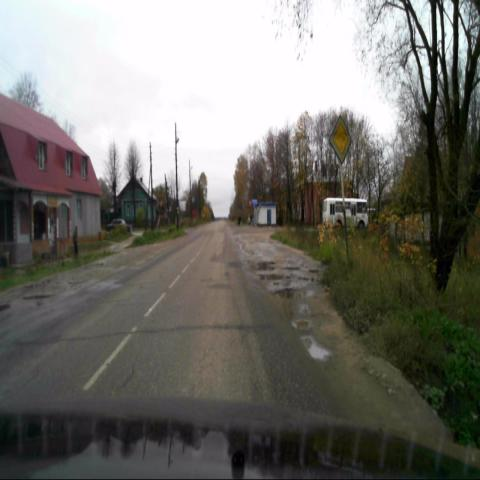2_1: (329, 114, 352, 165)
